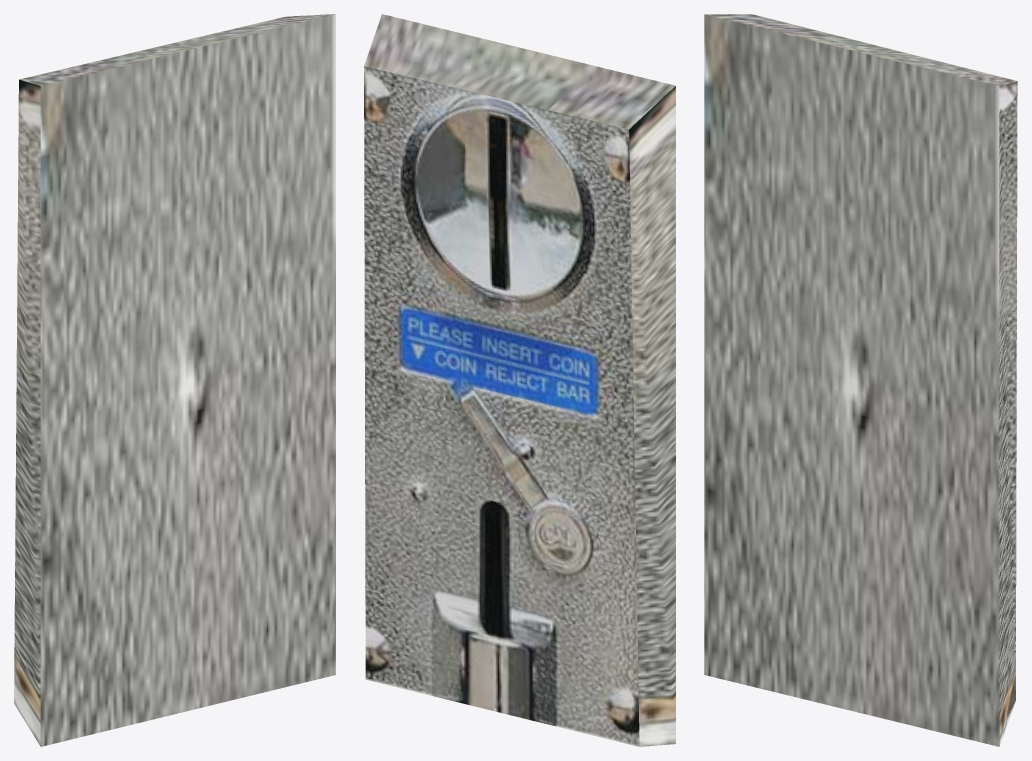
File: coin-slot2.glb
3 renders of one model, left to right at view 1: azimuth 30°, elevation 25°; view 2: azimuth 150°, elevation 25°; view 3: azimuth 330°, elevation 25°, orthographic.
Visible parts, largest first — view 1: Cube; view 2: Cube; view 3: Cube.
Part boxes in pixels (x1,y1,x2,y2): Cube: [14, 14, 335, 746]; Cube: [364, 14, 675, 746]; Cube: [704, 14, 1017, 746].
Size of the model in its own units: 0.1 by 0.214 by 0.0202.
Materials: 1 (1 with a texture image).
